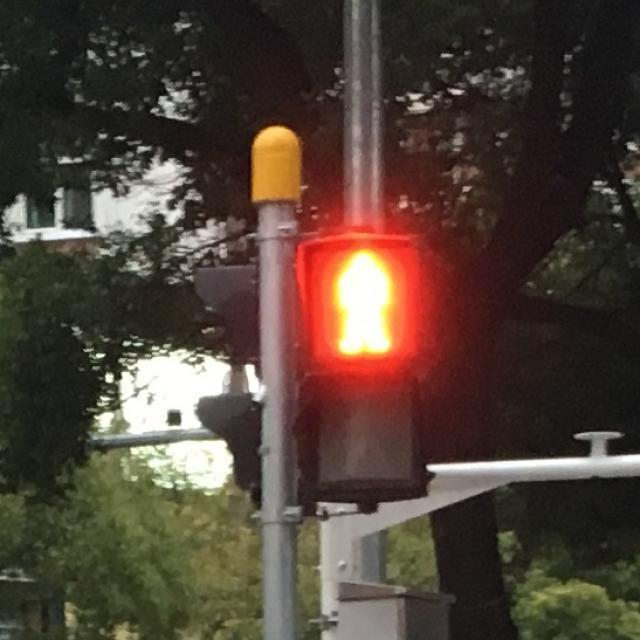red-crossing: (314, 245, 406, 362)
